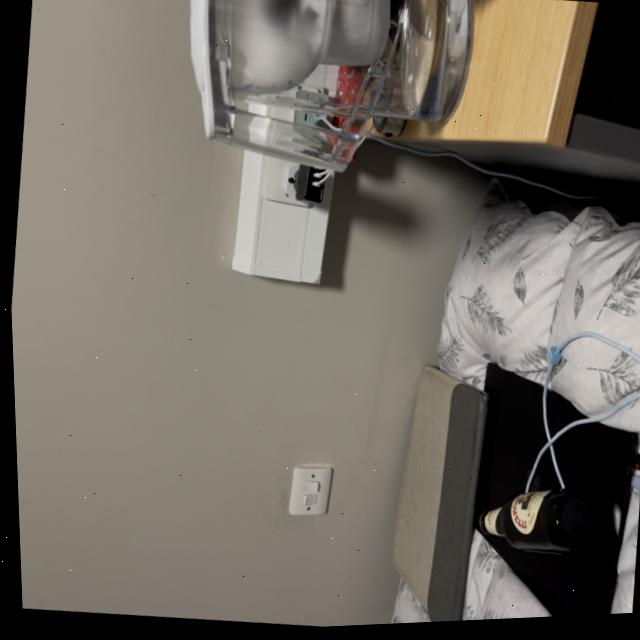beer: (462, 483, 595, 570)
